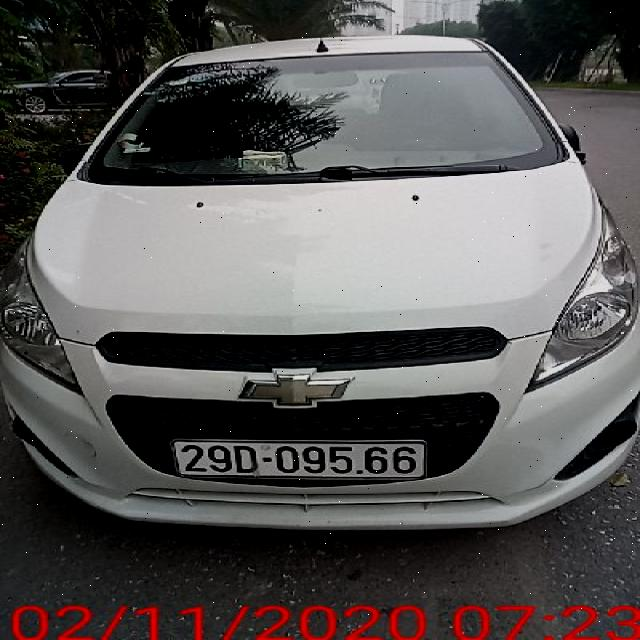0: (273, 445, 301, 474)
2: (179, 444, 208, 474)
5: (328, 445, 354, 475)
6: (363, 445, 389, 475), (392, 445, 417, 475)
9: (207, 445, 234, 473), (301, 446, 328, 474)
D: (233, 444, 262, 474)
